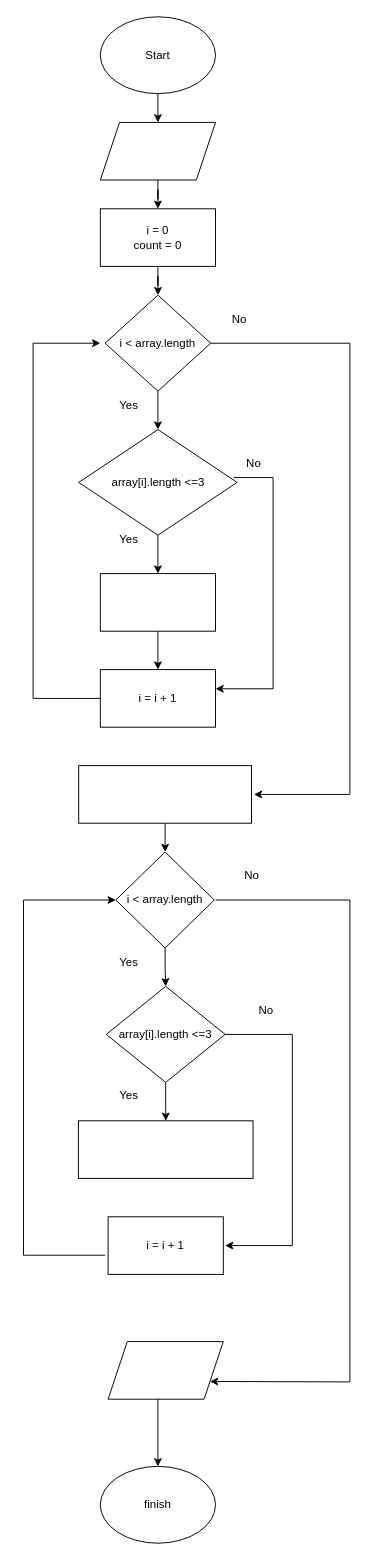
Some shapes in this 374 by 1560 pixel diagram are drawn without their labels. The centre of each missing label's shape, as x and y in pixels:
count = count +1: the point at 157,602
Create resultArray[count] j = 0 i = 0: the point at 165,794
resultArray: the point at 165,1370
resultarray[j] = array [i] j = j + 1: the point at 165,1149
string array: the point at 157,150
